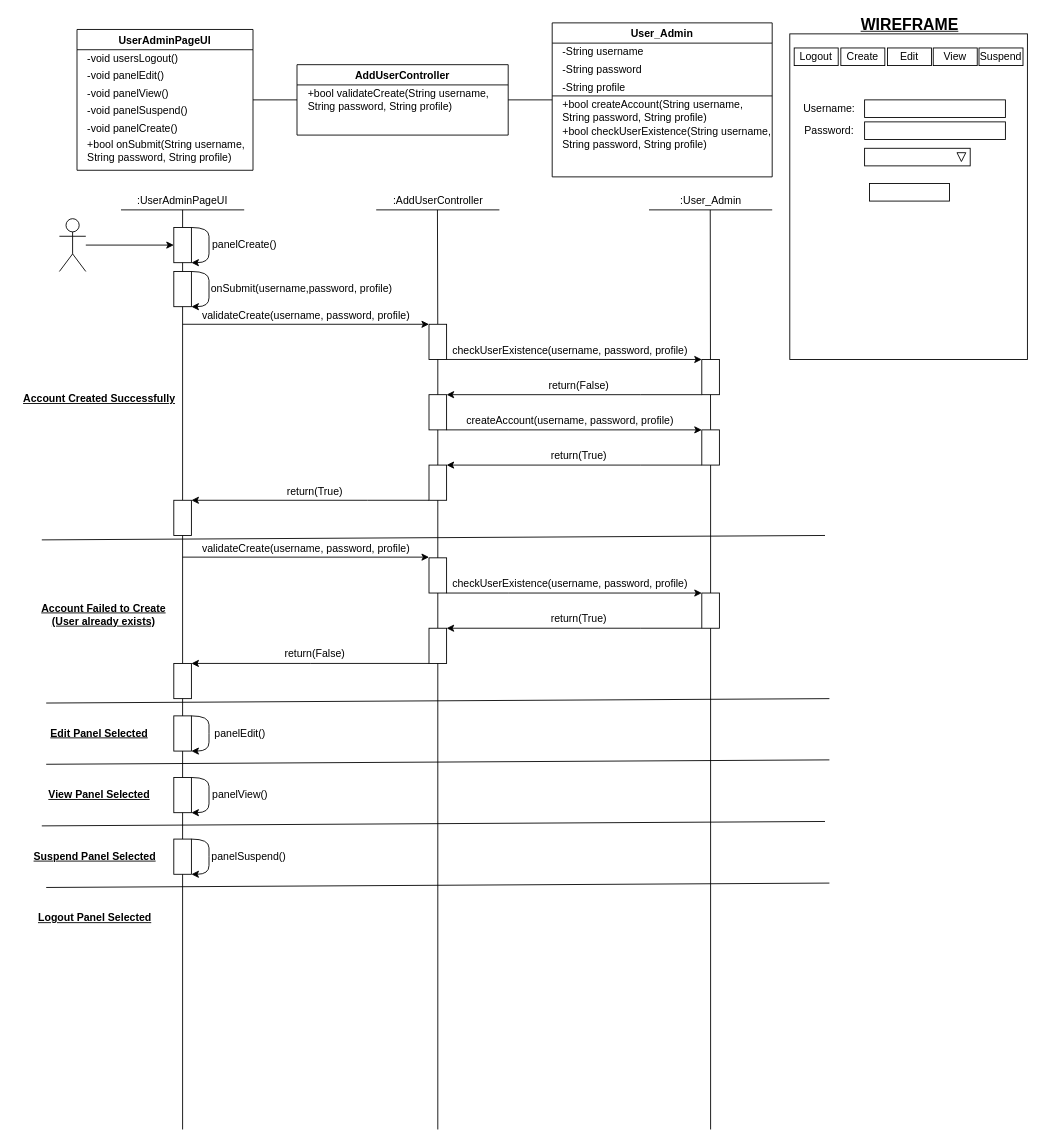
The diagram is 1043 pixels wide and 1146 high, and some of its shapes have lost their labels. The shapes that lost their labels are listed below. From the top down, each one's centre as x and y in pixels, then its label:
At point 917,156: "Profile".
At point 909,192: "Create Account".
At point 72,244: "User Admin".
